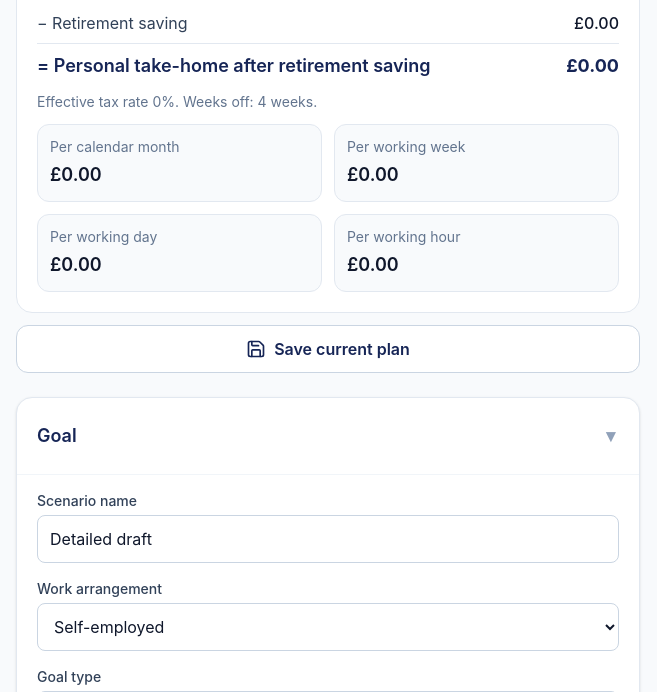
Test case: Plan › saves the active plan to the library from the Plan page
(page scrolled)
What coordinates should you click on to do the following:
click the button "Save current plan"
I would click on:
 (328, 349)
Its box is [16,325,640,373].
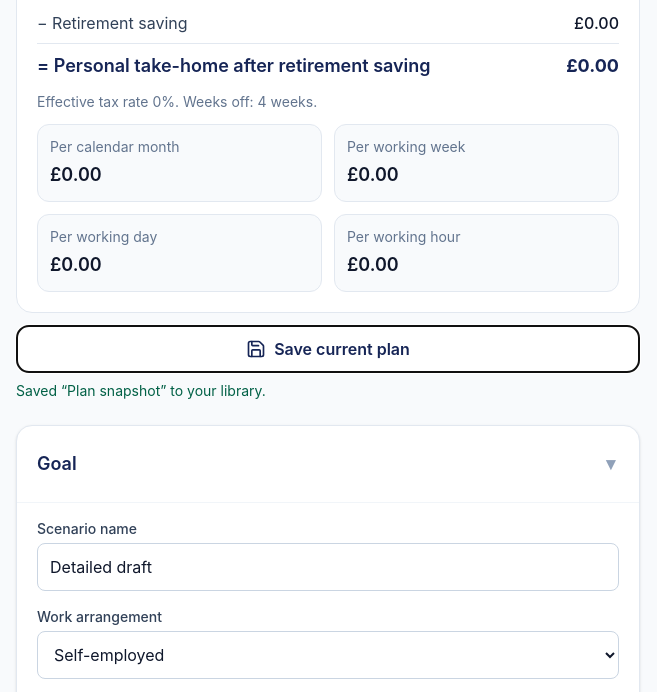
Expected: the message shows "Plan snapshot", [16,382,266,399]
